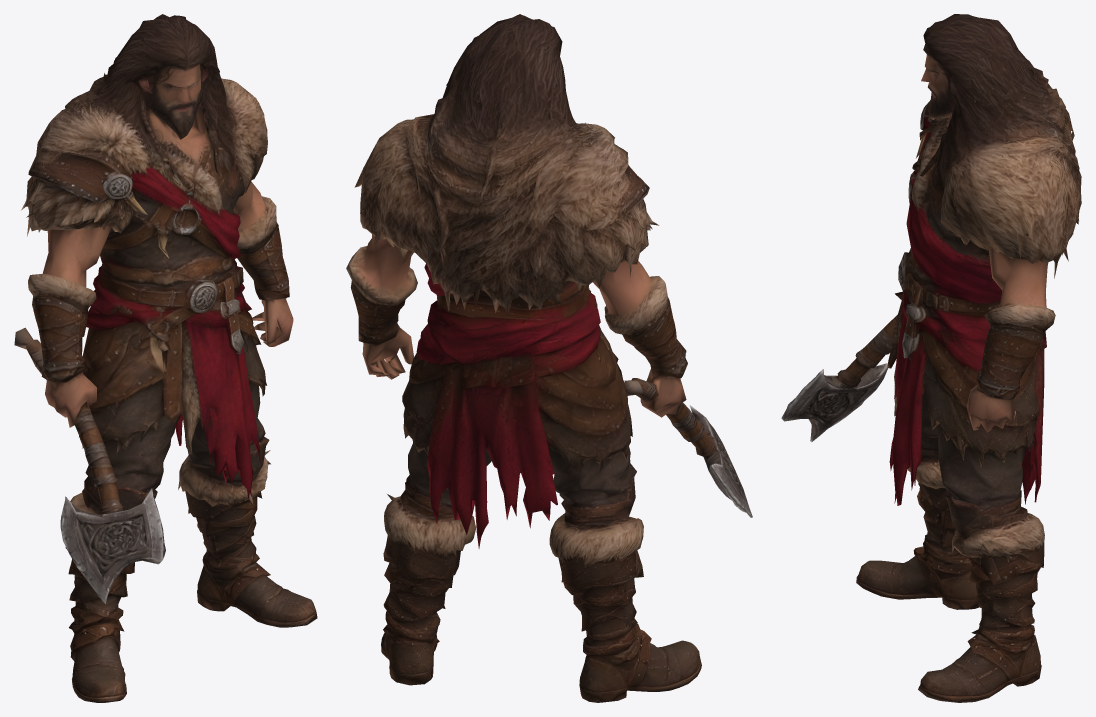
File: barbarian.glb
3 views of the same model, side by side, from view 1: azimuth 30°, elevation 25°; view 2: azimuth 150°, elevation 25°; view 3: azimuth 270°, elevation 25° (orthographic). The views are drawn at different scales.
Parts seen in each view (by area): view 1: tripo_node_eef3f0b6-0432-472d-8e1b-c21b57bbde34; view 2: tripo_node_eef3f0b6-0432-472d-8e1b-c21b57bbde34; view 3: tripo_node_eef3f0b6-0432-472d-8e1b-c21b57bbde34.
Boxes of the visible parts, x1,y1,x2,y2 form: tripo_node_eef3f0b6-0432-472d-8e1b-c21b57bbde34: [14, 14, 317, 702]; tripo_node_eef3f0b6-0432-472d-8e1b-c21b57bbde34: [346, 14, 752, 702]; tripo_node_eef3f0b6-0432-472d-8e1b-c21b57bbde34: [781, 14, 1081, 702].
Size of the model in its own units: 0.4864 by 0.997 by 0.4353.
Materials: 1 (1 with a texture image).
